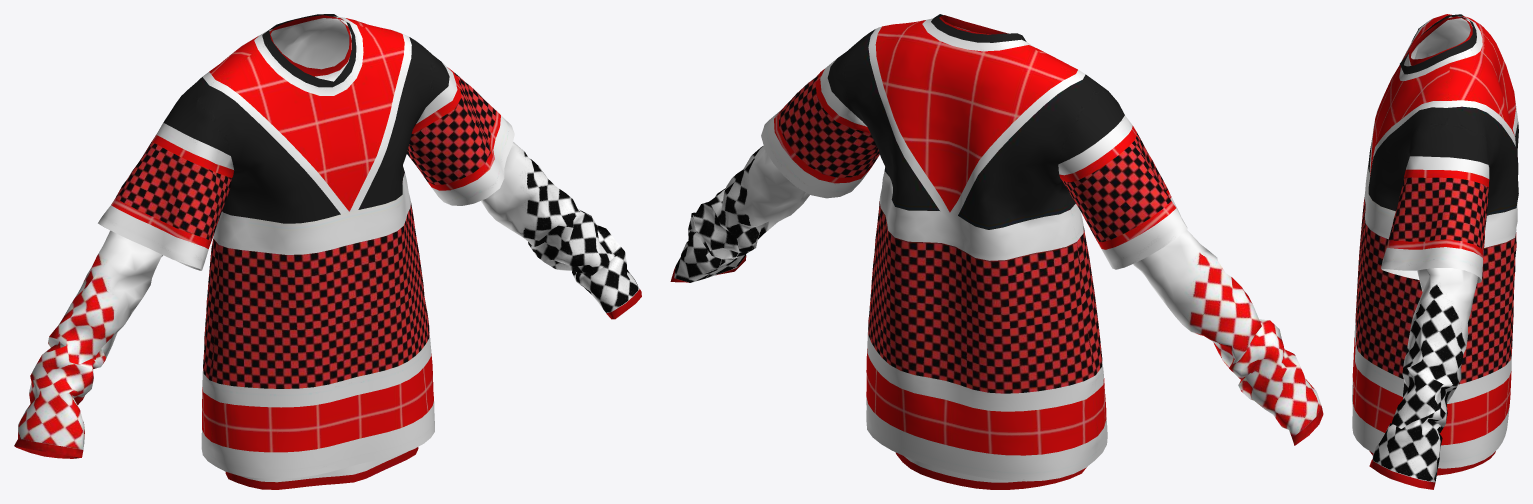
Rendered from party_starter_-_layered_t-shirts.glb.
The picture shows the model from 3 angles, left to right: view 1: azimuth 30°, elevation 25°; view 2: azimuth 150°, elevation 25°; view 3: azimuth 270°, elevation 25°; orthographic projection. The views are drawn at different scales.
Parts seen in each view (by area): view 1: PartyStarter-LayeredTShirts-LowPoly_0; view 2: PartyStarter-LayeredTShirts-LowPoly_0; view 3: PartyStarter-LayeredTShirts-LowPoly_0.
Part boxes in pixels (x1,y1,x2,y2): PartyStarter-LayeredTShirts-LowPoly_0: (14,14,641,489); PartyStarter-LayeredTShirts-LowPoly_0: (670,14,1323,489); PartyStarter-LayeredTShirts-LowPoly_0: (1352,14,1518,489).
Size of the model in its own units: 1.47 by 0.9728 by 0.3589.
Materials: 1 (1 with a texture image).
